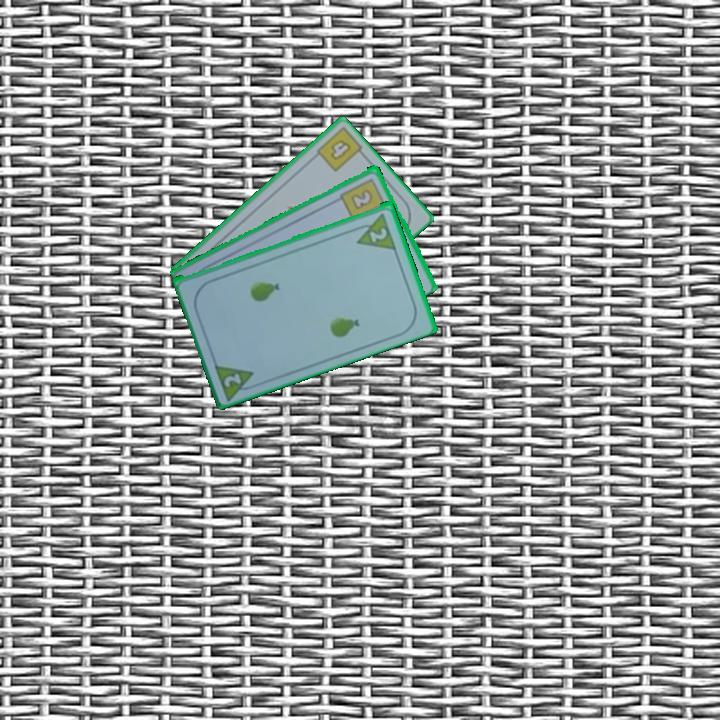2b: (337, 174, 388, 223)
2p: (210, 358, 262, 402), (366, 223, 390, 245)
4b: (327, 135, 354, 163)
